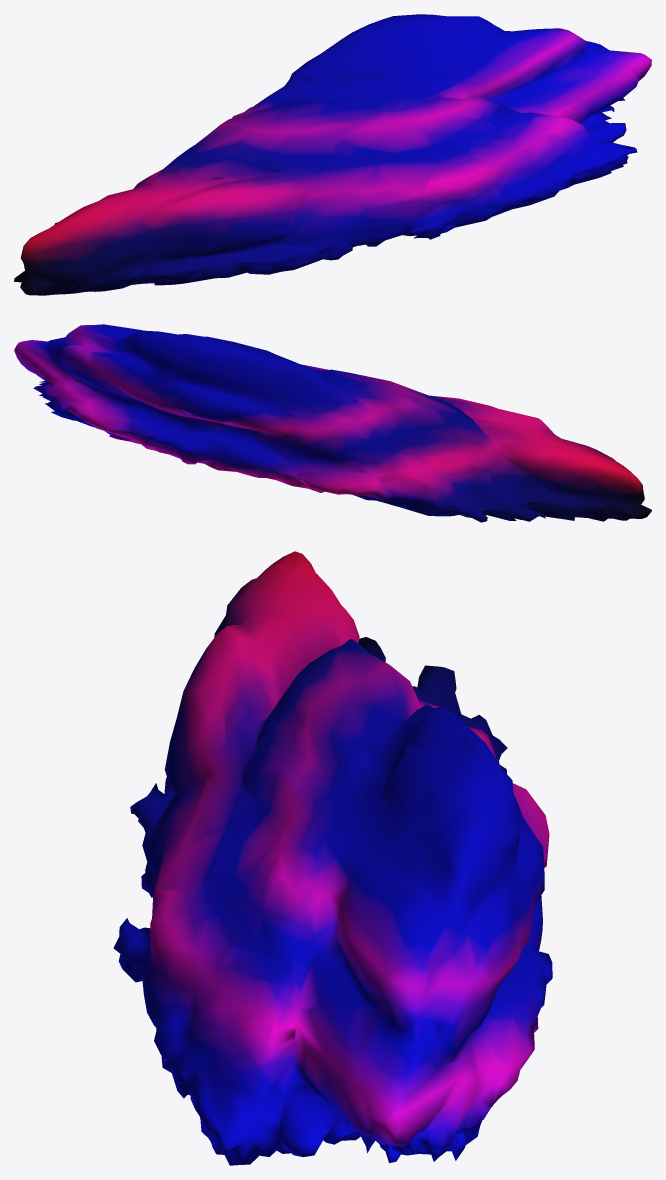
Rendered from copper_vein-u8-cold-lod0.gltf.
3 renders of one model, top to bottom at view 1: azimuth 30°, elevation 25°; view 2: azimuth 150°, elevation 25°; view 3: azimuth 270°, elevation 25°, orthographic. The views are drawn at different scales.
Parts seen in each view (by area): view 1: copper_vein-u8-cold-lod0; view 2: copper_vein-u8-cold-lod0; view 3: copper_vein-u8-cold-lod0.
Part boxes in pixels (box(x1,y1,x2,y2)): copper_vein-u8-cold-lod0: box(14, 14, 651, 295); copper_vein-u8-cold-lod0: box(14, 324, 651, 522); copper_vein-u8-cold-lod0: box(113, 551, 552, 1165).
Bounding box in the file's own units: 2.49 × 0.4884 × 0.7779.
